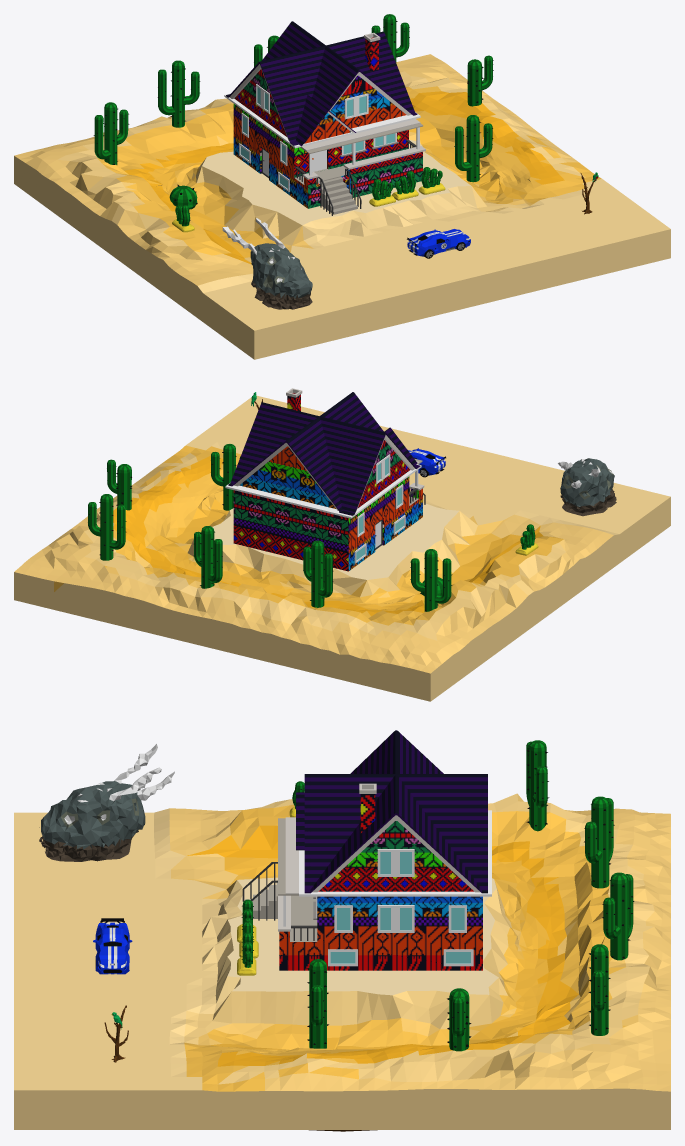
3 renders of one model, top to bottom at view 1: azimuth 30°, elevation 25°; view 2: azimuth 150°, elevation 25°; view 3: azimuth 270°, elevation 25°, orthographic. The views are drawn at different scales.
Parts seen in each view (by area): view 1: Cube.001, Cube.966, OBJRANDOM_METEORITE, Cylinder.037, Cylinder.044, Cylinder.045, VEHICLES_RACING_CAR, Cylinder.038, Cylinder.042, Cylinder.039, Cylinder.041, Sphere.023 (+1 smaller); view 2: Cube.001, Cube.966, OBJRANDOM_METEORITE, Cylinder.042, Cylinder.045, Cylinder.044, Cylinder.043, Cylinder.037, Cylinder.038, VEHICLES_RACING_CAR; view 3: Cube.001, Cube.966, OBJRANDOM_METEORITE, Cylinder.043, Cylinder.044, VEHICLES_RACING_CAR, Cylinder.045, Cylinder.042, Cylinder.037, Cylinder.038, Cylinder.041.
Part boxes in pixels (x1,y1,x2,y2): Cube.001: [14, 54, 670, 359]; Cube.966: [224, 21, 425, 215]; OBJRANDOM_METEORITE: [222, 218, 312, 309]; Cylinder.037: [454, 115, 493, 182]; Cylinder.044: [157, 60, 200, 127]; Cylinder.045: [93, 102, 129, 164]; VEHICLES_RACING_CAR: [407, 229, 470, 258]; Cylinder.038: [467, 55, 493, 106]; Cylinder.042: [371, 14, 409, 62]; Cylinder.039: [369, 179, 395, 206]; Cylinder.041: [418, 167, 445, 194]; Sphere.023: [169, 184, 197, 209]; Cube.001: [14, 395, 670, 701]; Cube.966: [225, 388, 425, 571]; OBJRANDOM_METEORITE: [558, 458, 616, 516]; Cylinder.042: [88, 494, 126, 560]; Cylinder.045: [410, 549, 452, 611]; Cylinder.044: [303, 540, 333, 607]; Cylinder.043: [193, 526, 222, 588]; Cylinder.037: [211, 444, 240, 510]; Cylinder.038: [107, 459, 131, 510]; VEHICLES_RACING_CAR: [408, 448, 445, 477]; Cube.001: [14, 793, 670, 1129]; Cube.966: [242, 730, 491, 970]; OBJRANDOM_METEORITE: [39, 744, 174, 861]; Cylinder.043: [602, 872, 634, 960]; Cylinder.044: [584, 796, 614, 888]; VEHICLES_RACING_CAR: [93, 918, 132, 974]; Cylinder.045: [526, 740, 549, 831]; Cylinder.042: [588, 944, 610, 1035]; Cylinder.037: [307, 959, 328, 1048]; Cylinder.038: [447, 988, 471, 1051]; Cylinder.041: [237, 932, 256, 975].
Bounding box in the file's own units: 4002 × 1693 × 4001.
Materials: 41 (6 with a texture image).
